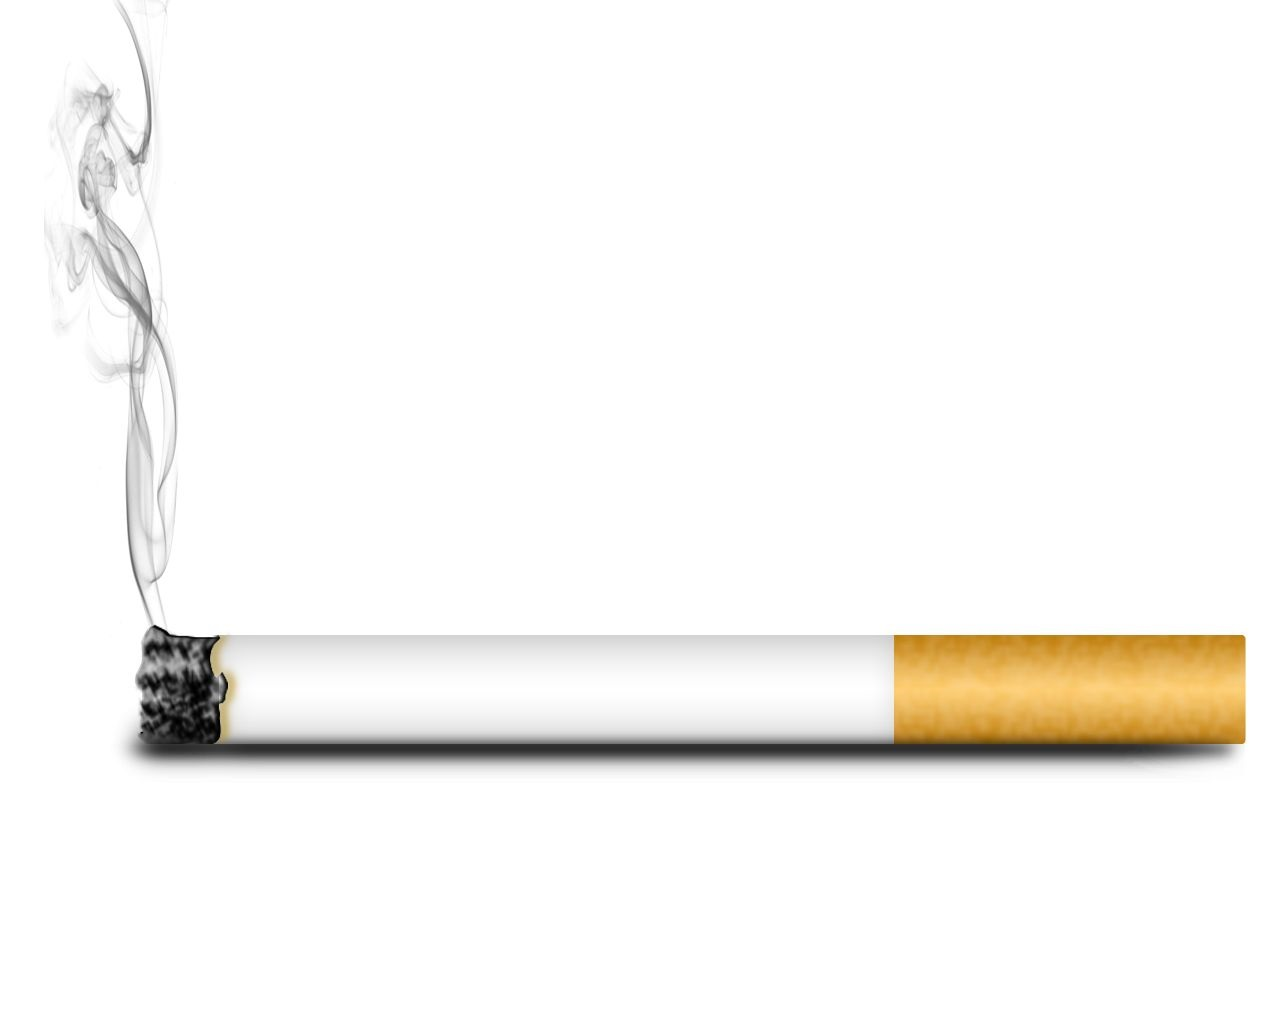smoke: (60, 3, 202, 620)
